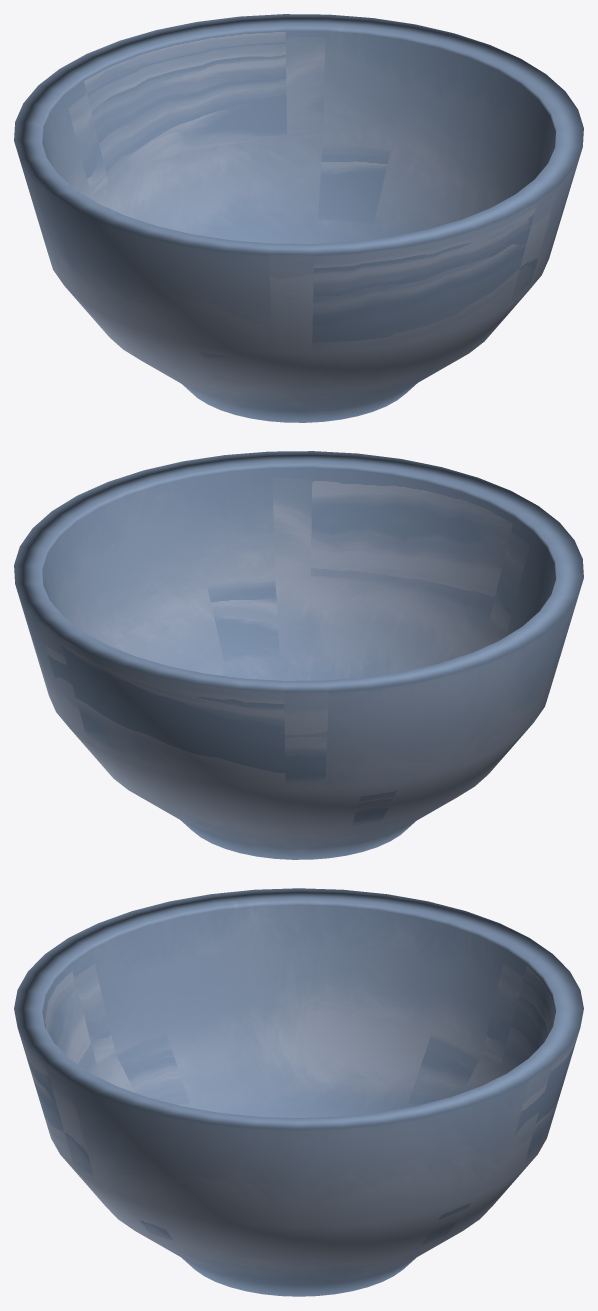
The model's file is ReducedMixingBowlModel.fbx.
The picture shows the model from 3 angles, top to bottom: view 1: azimuth 30°, elevation 25°; view 2: azimuth 150°, elevation 25°; view 3: azimuth 270°, elevation 25°; orthographic projection.
Visible parts, largest first — view 1: pCylinder1; view 2: pCylinder1; view 3: pCylinder1.
Part boxes in pixels (left/top/right/bottom): pCylinder1: left=14, top=14, right=583, bottom=422; pCylinder1: left=14, top=451, right=583, bottom=859; pCylinder1: left=14, top=888, right=583, bottom=1296.
Size of the model in its own units: 14.81 by 6.84 by 14.81.
